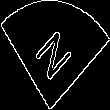N_SW: (32, 23, 78, 87)
